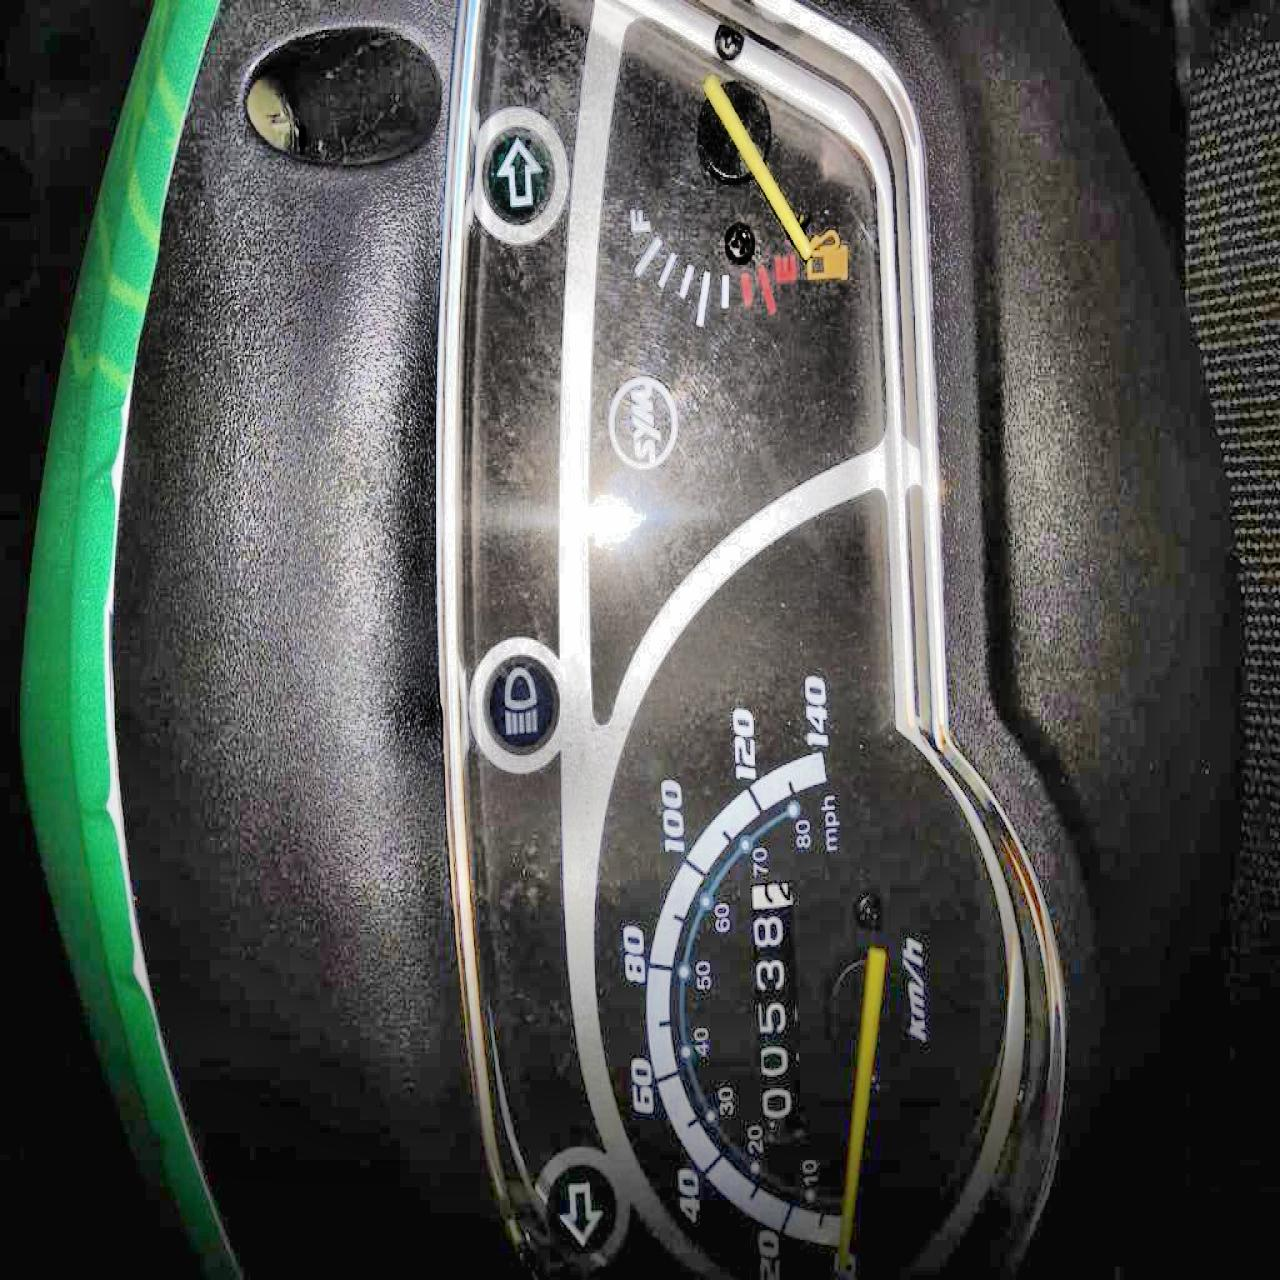0: (756, 1046, 790, 1077), (760, 1089, 791, 1118)
2: (763, 878, 792, 904)
3: (753, 955, 790, 992)
5: (754, 999, 789, 1034)
8: (750, 912, 785, 946)
odometer: (742, 874, 813, 1125)
